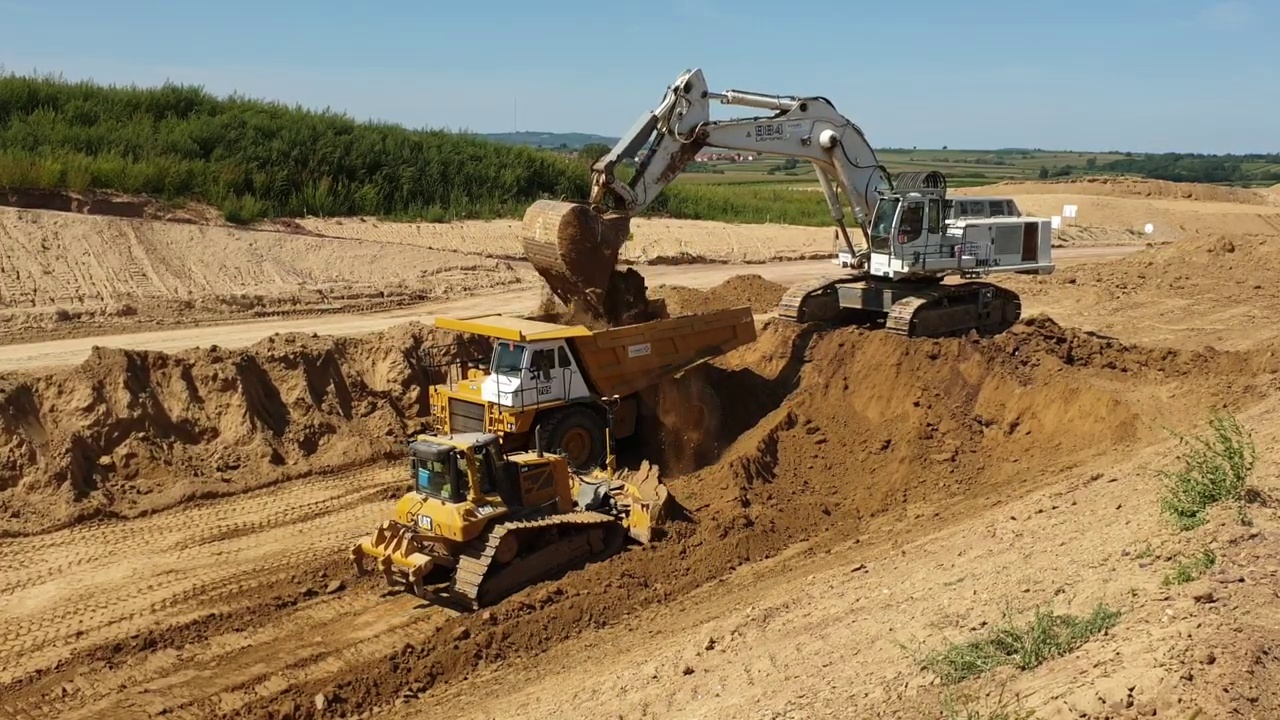bulldozer: (347, 389, 683, 616)
excavator: (512, 58, 1060, 347)
truck: (415, 293, 764, 485)
